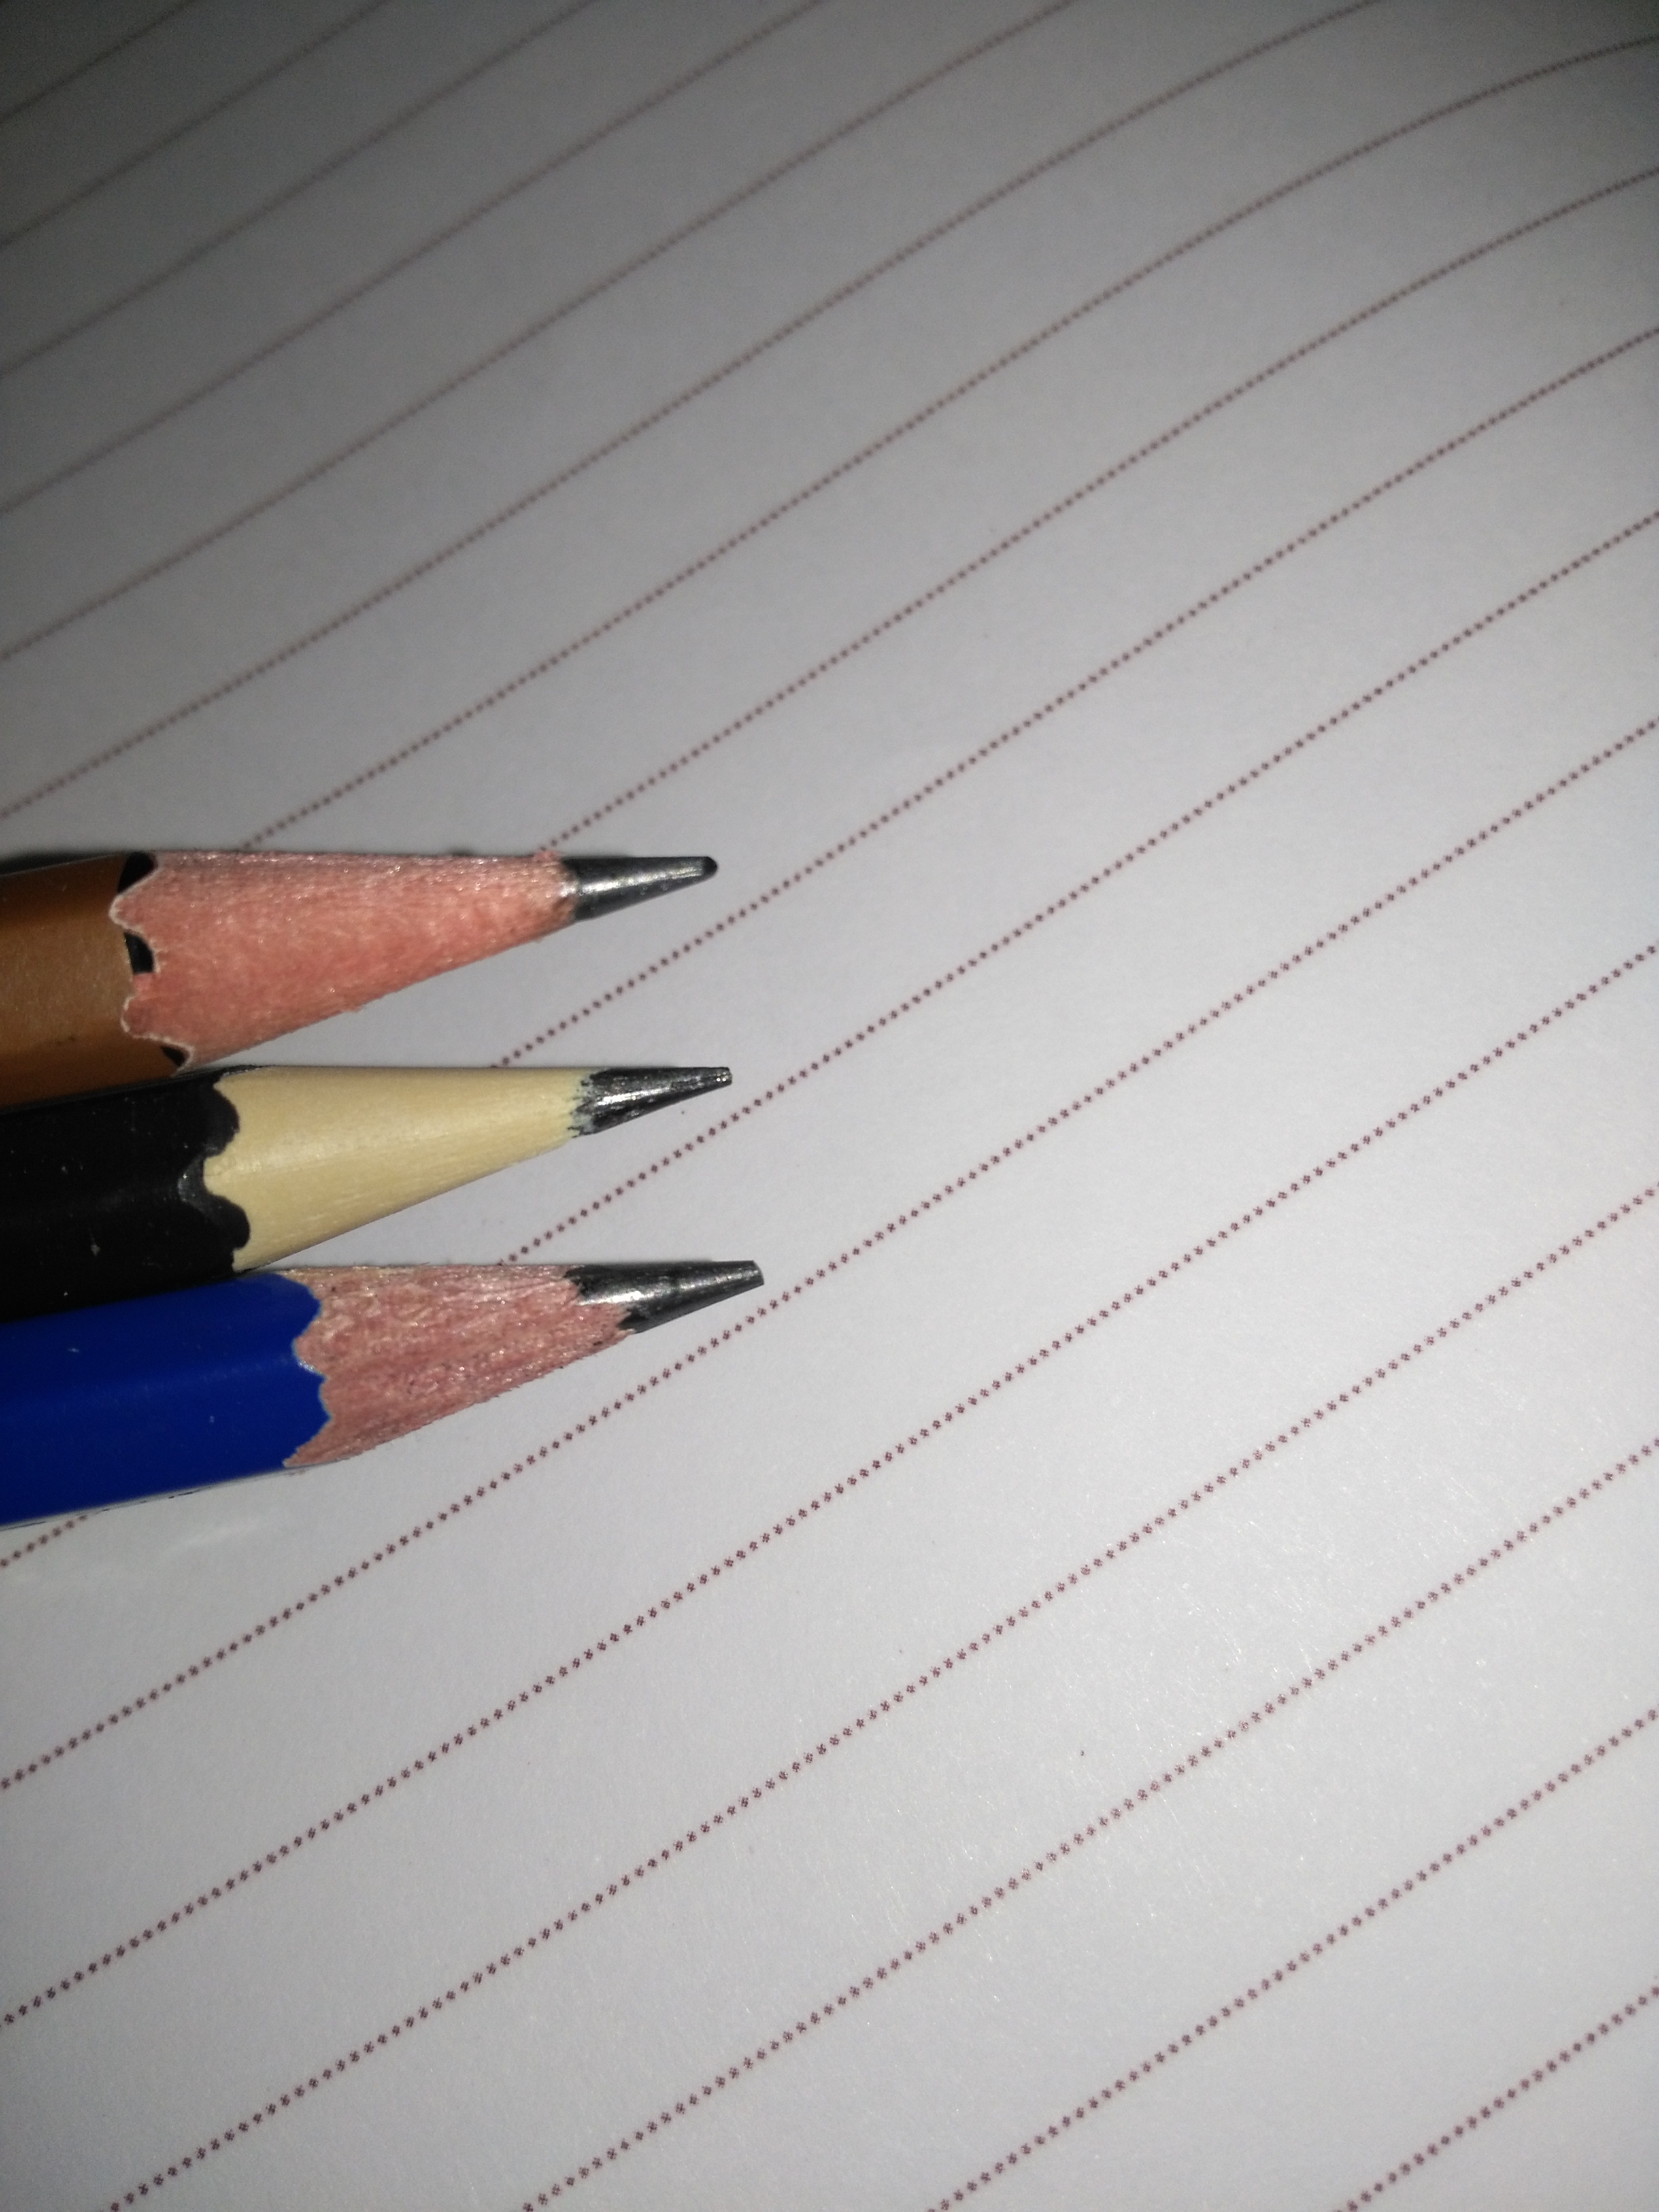pen_tip: (160, 1212, 875, 1500), (71, 784, 772, 1045), (103, 1017, 762, 1251)
